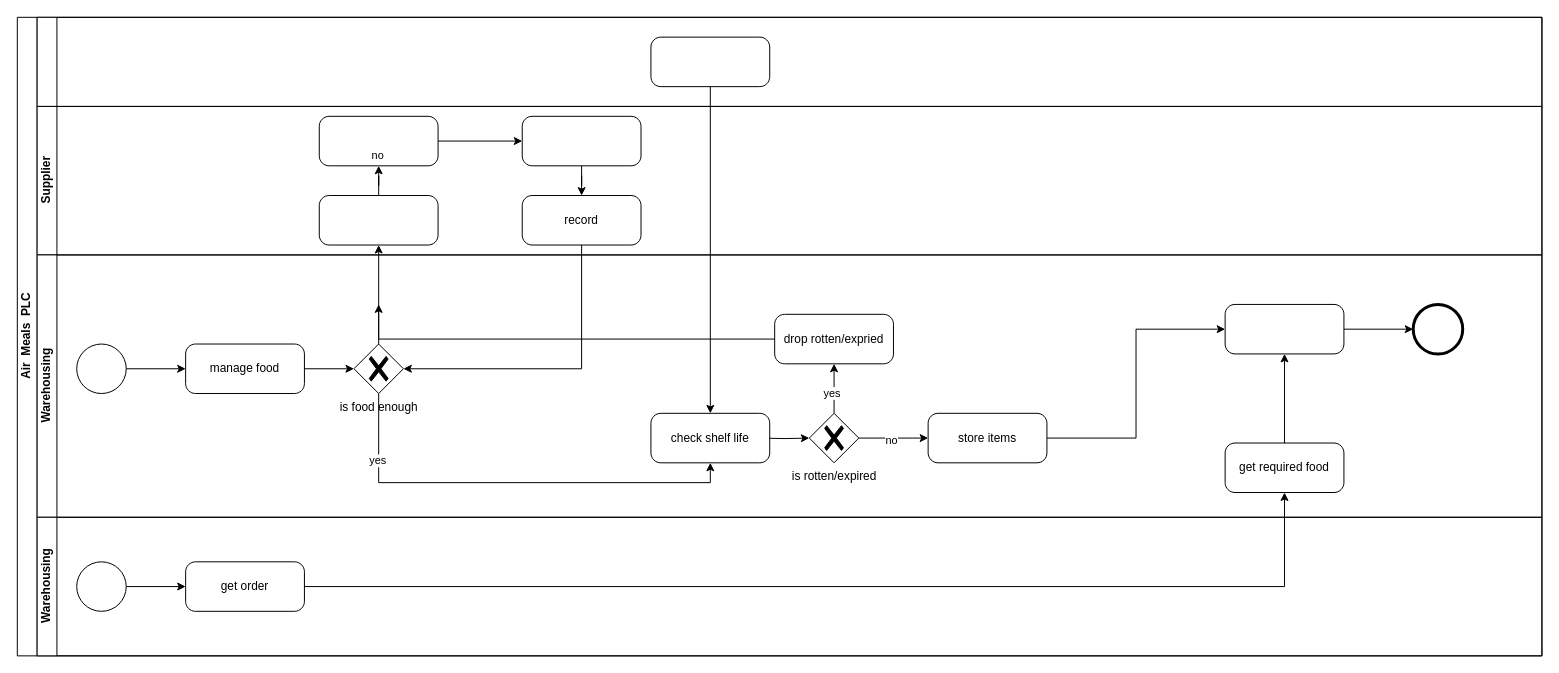
The diagram is 1559 pixels wide and 673 high, and some of its shapes have lost their labels. Here are the shapes that lost their labels. From the top down, the box of each, then its label:
(650, 36, 770, 87): returned item
(36, 16, 1542, 106): Delivery
(318, 115, 438, 166): prepare food
(521, 115, 641, 166): send to warehousing
(318, 195, 438, 245): book food
(1224, 303, 1344, 354): update tracing
